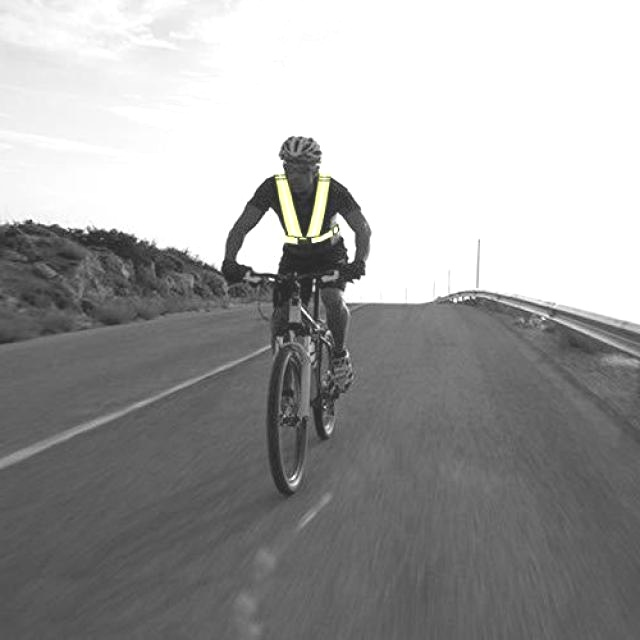Con_Chaleco: (272, 172, 334, 253)
